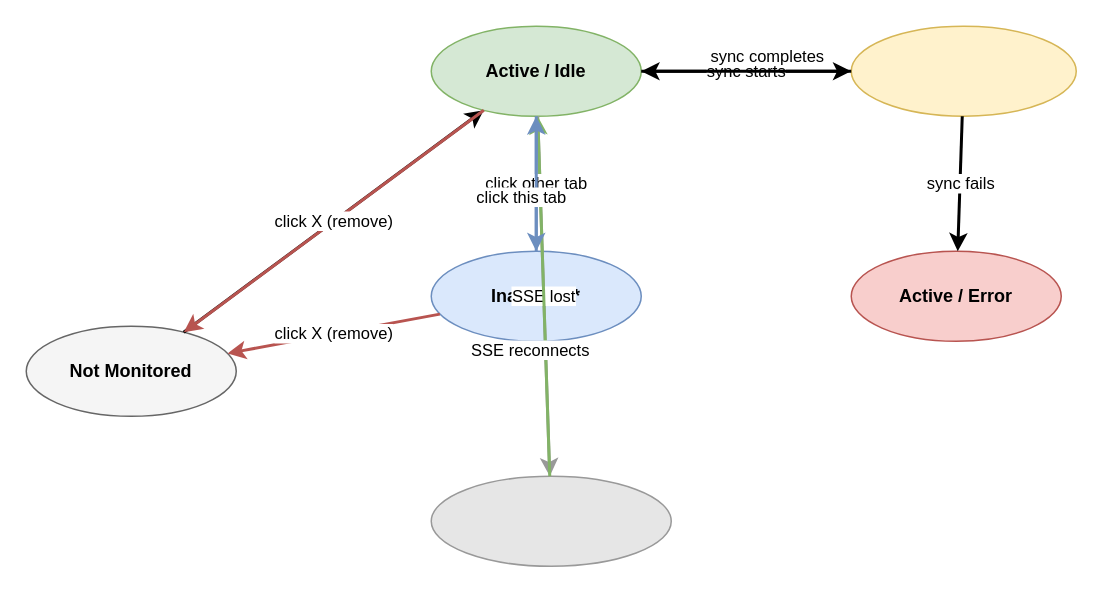
Image size: 1103x593. Some labels were removed from this diagram. Here are the shapes that lost their labels. From the top down, the centre of each, then its label:
(963,70): Active / Running
(550,520): Active / Disconnected
